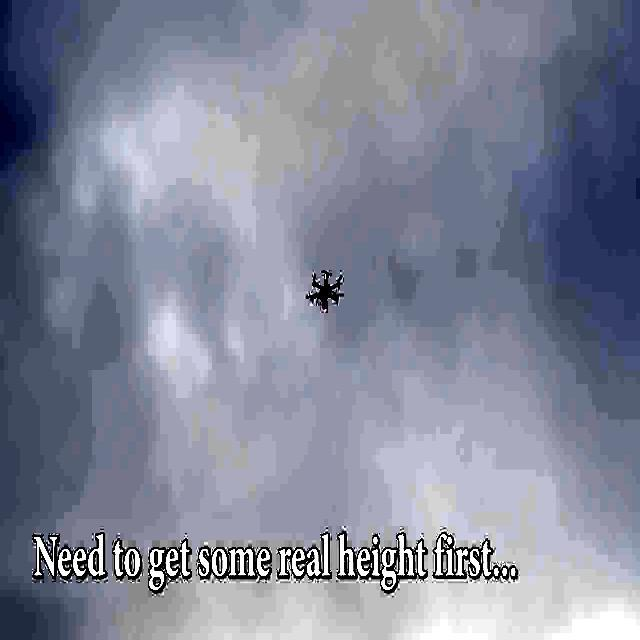drone: (307, 264, 345, 316)
